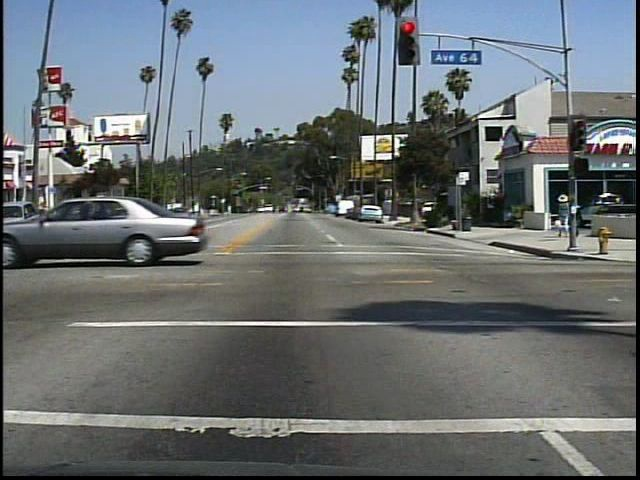person: (550, 189, 571, 242)
